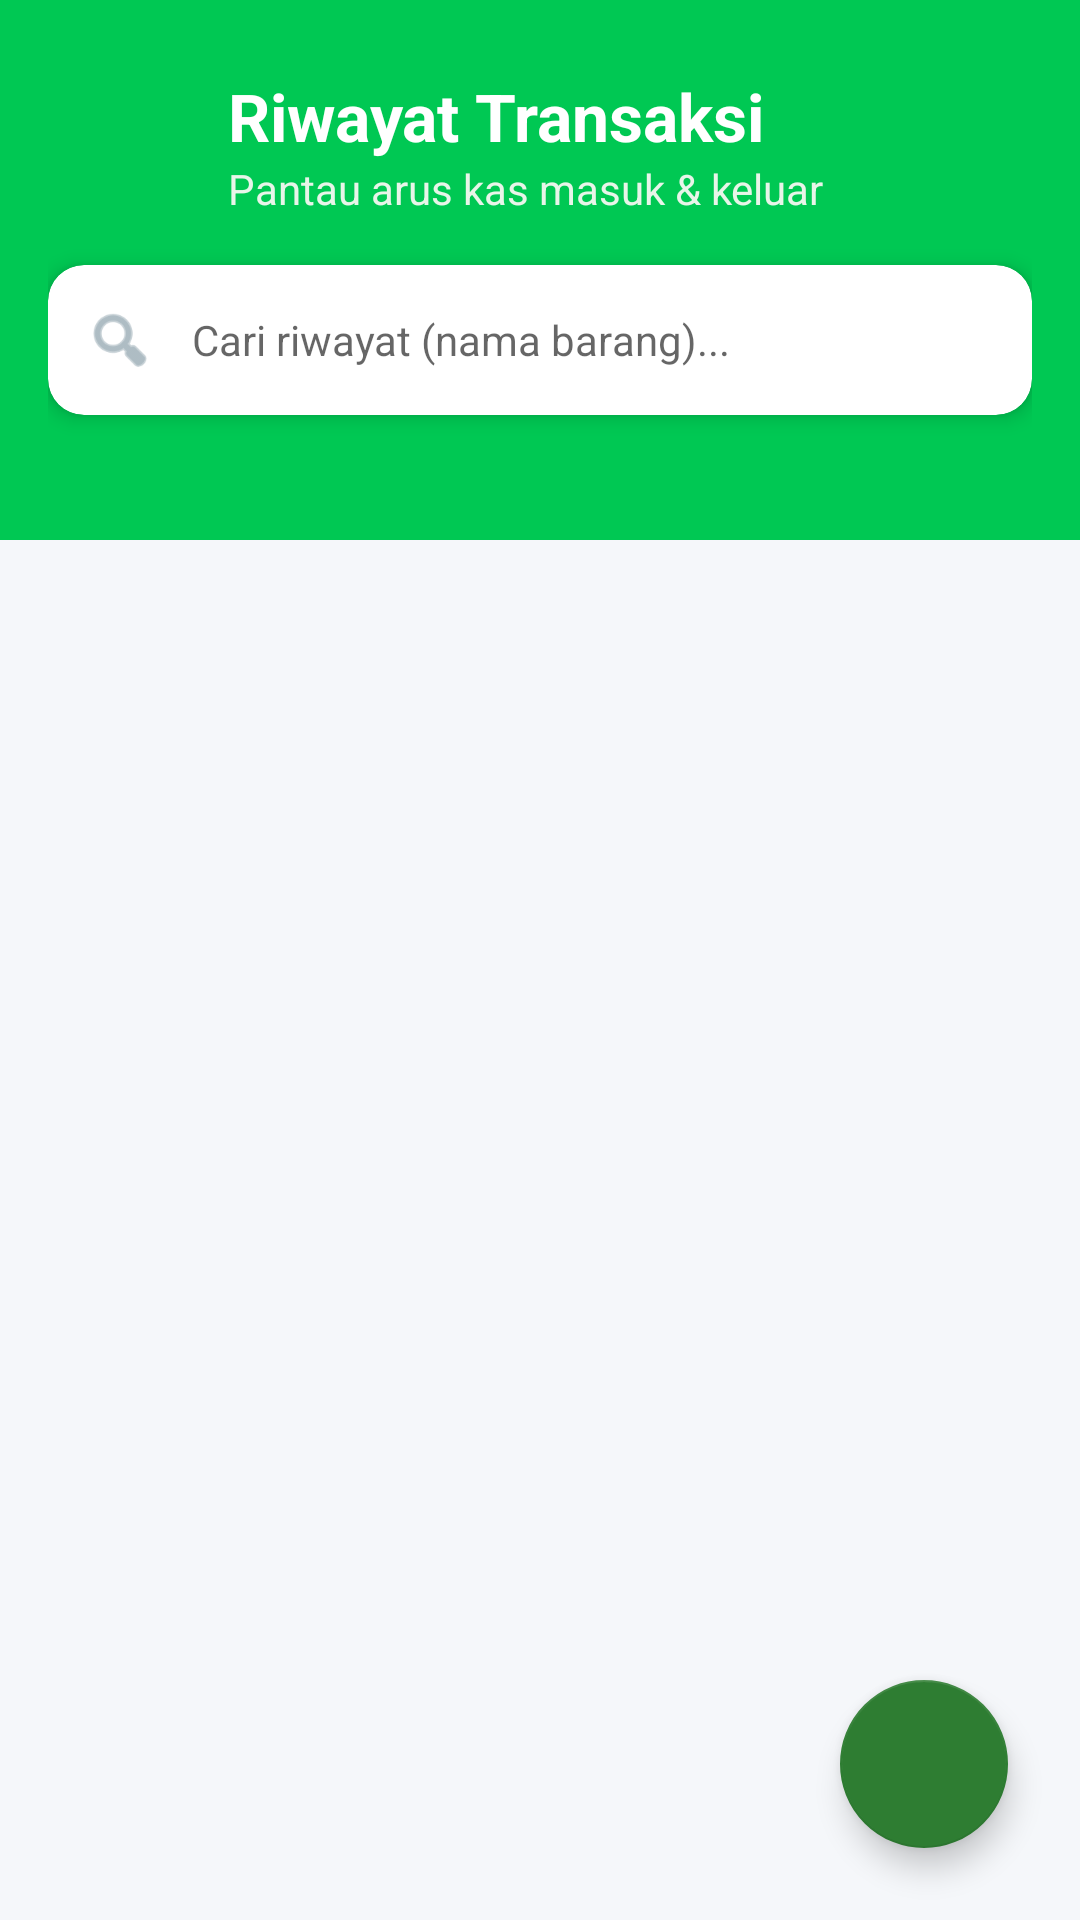

Where icons sit on this 1080 x 1920 app screen, as (x1, y1, x2, y2):
search: (94, 314, 146, 367)
